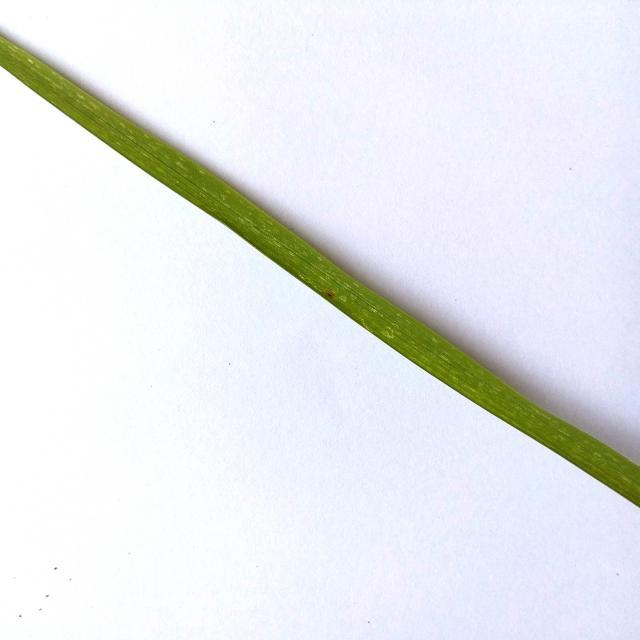brownspots: (324, 282, 341, 306)
